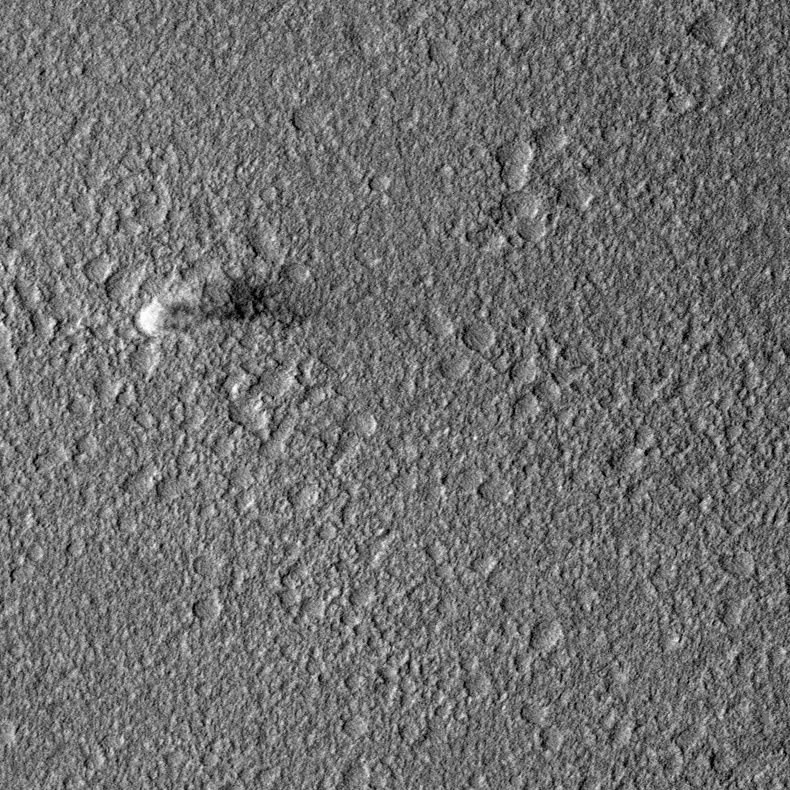dust_devil: (130, 269, 314, 342)
